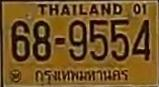4: (132, 19, 149, 60)
5: (110, 18, 128, 60), (89, 19, 107, 60)
6: (10, 20, 29, 61)
8: (32, 20, 50, 60)
9: (68, 19, 86, 60)
BKK: (34, 66, 130, 83)
